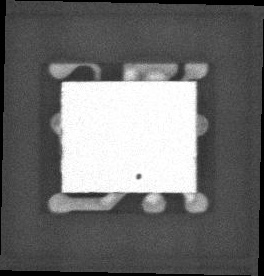DIE_INK: (127, 178, 137, 189)
